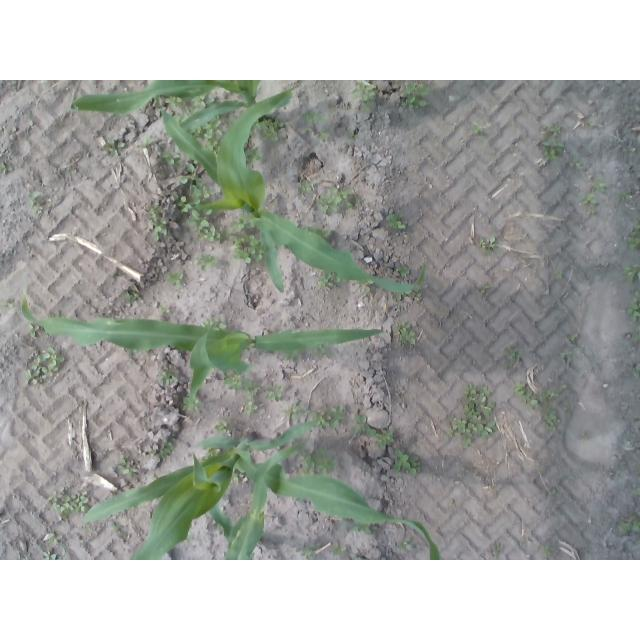Maize: (157, 83, 426, 294), (82, 420, 441, 560), (21, 297, 386, 412), (214, 440, 307, 561), (71, 80, 270, 124)
Weeds: (448, 383, 496, 450), (515, 380, 573, 431), (174, 190, 223, 243), (22, 345, 67, 390), (353, 414, 396, 451), (223, 375, 261, 414), (179, 162, 217, 200), (49, 488, 90, 519), (226, 231, 263, 265), (535, 122, 565, 162), (317, 187, 363, 213), (302, 446, 341, 474), (392, 447, 423, 477), (351, 81, 378, 115), (147, 204, 171, 242), (580, 181, 606, 216), (143, 438, 178, 462), (314, 405, 345, 431), (402, 83, 431, 108), (257, 118, 287, 142), (156, 369, 184, 391), (160, 144, 185, 168), (283, 402, 310, 422), (625, 289, 640, 323), (396, 322, 416, 347), (477, 237, 503, 256), (617, 514, 640, 535), (30, 191, 49, 216), (103, 139, 126, 158), (302, 107, 326, 125), (116, 458, 141, 475), (124, 284, 145, 304), (197, 253, 219, 272), (264, 385, 286, 404), (304, 127, 333, 141), (230, 211, 251, 230), (627, 222, 640, 251), (297, 544, 318, 561), (201, 316, 228, 329), (388, 211, 406, 230), (623, 262, 639, 283), (318, 273, 340, 288), (181, 395, 200, 412), (207, 119, 223, 139), (347, 522, 373, 534), (165, 96, 187, 110), (505, 346, 520, 366), (246, 147, 262, 165), (331, 541, 349, 557), (308, 226, 331, 238), (191, 96, 214, 108), (297, 180, 313, 196), (0, 298, 16, 314), (0, 158, 14, 176), (214, 420, 230, 435), (138, 136, 155, 150), (492, 542, 505, 560), (571, 157, 586, 172), (66, 161, 80, 177), (396, 537, 412, 551), (169, 271, 184, 285), (394, 264, 410, 277), (285, 350, 300, 363), (28, 325, 41, 340), (110, 520, 123, 535), (397, 291, 416, 301), (617, 190, 631, 203), (48, 531, 62, 544), (563, 350, 576, 364), (480, 282, 492, 297), (361, 280, 373, 293), (551, 271, 565, 282), (205, 141, 219, 152), (42, 552, 59, 561), (344, 130, 356, 142), (315, 346, 328, 357), (543, 543, 554, 556), (474, 122, 485, 134), (195, 126, 206, 138), (519, 537, 531, 548), (584, 117, 597, 127), (161, 303, 172, 313), (448, 497, 458, 508), (569, 332, 580, 342), (633, 363, 640, 378), (413, 291, 423, 301), (84, 523, 93, 534), (634, 326, 640, 342), (632, 487, 640, 498), (551, 488, 561, 496)
